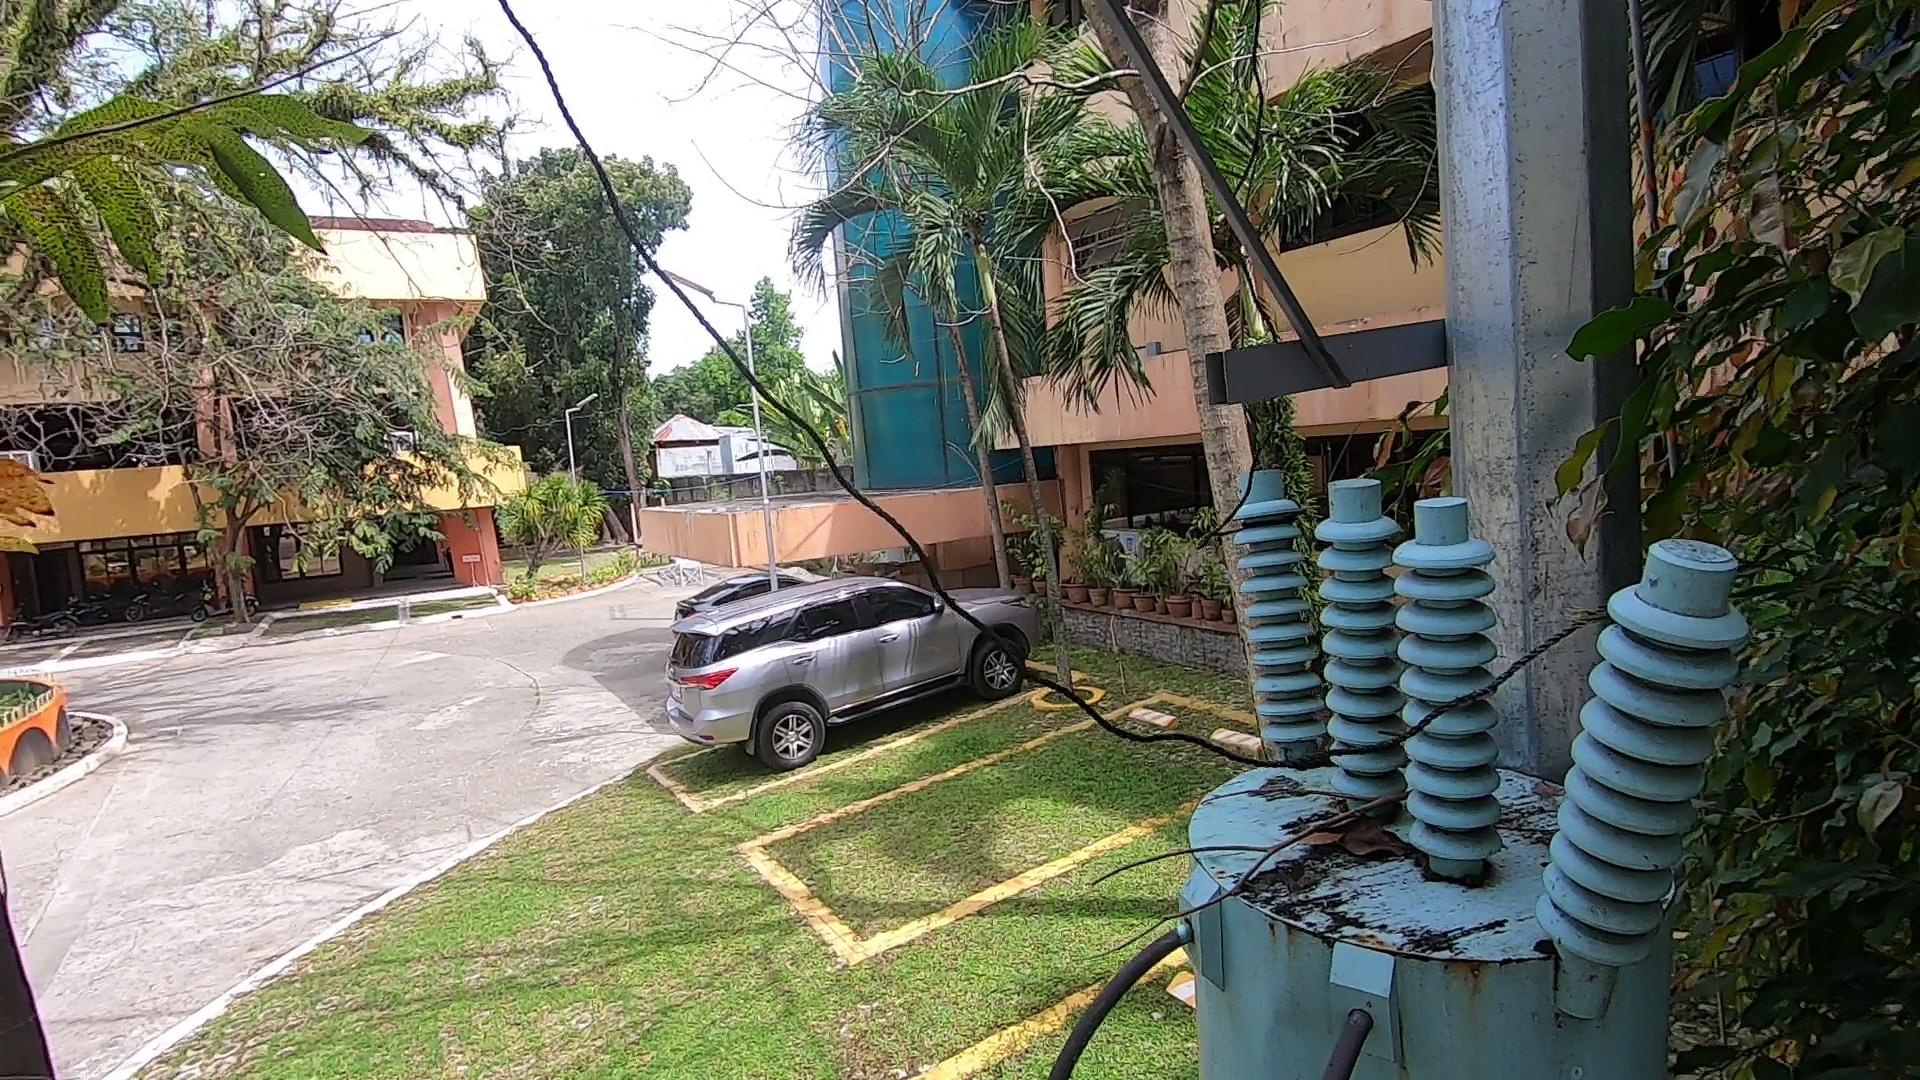leaf: (1290, 810, 1424, 876)
tree branch: (1073, 764, 1408, 964)
